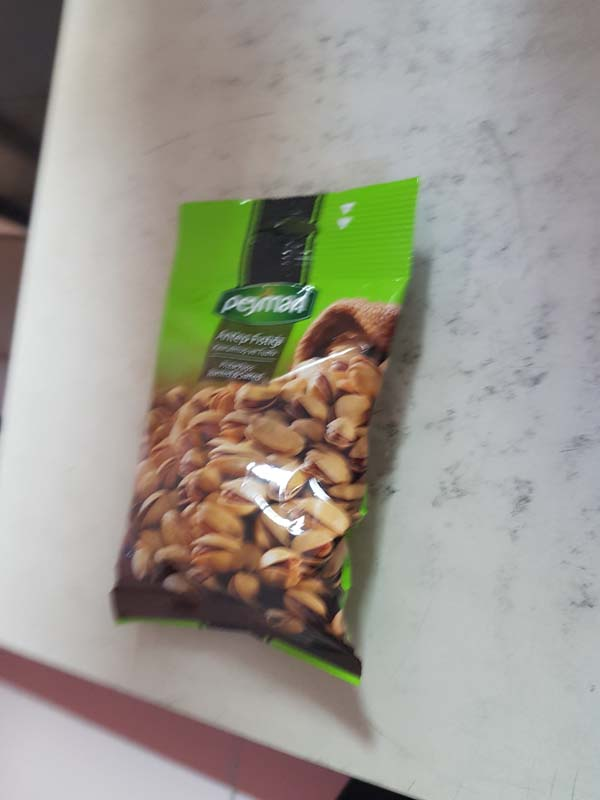antepfistigi: (111, 176, 427, 682)
